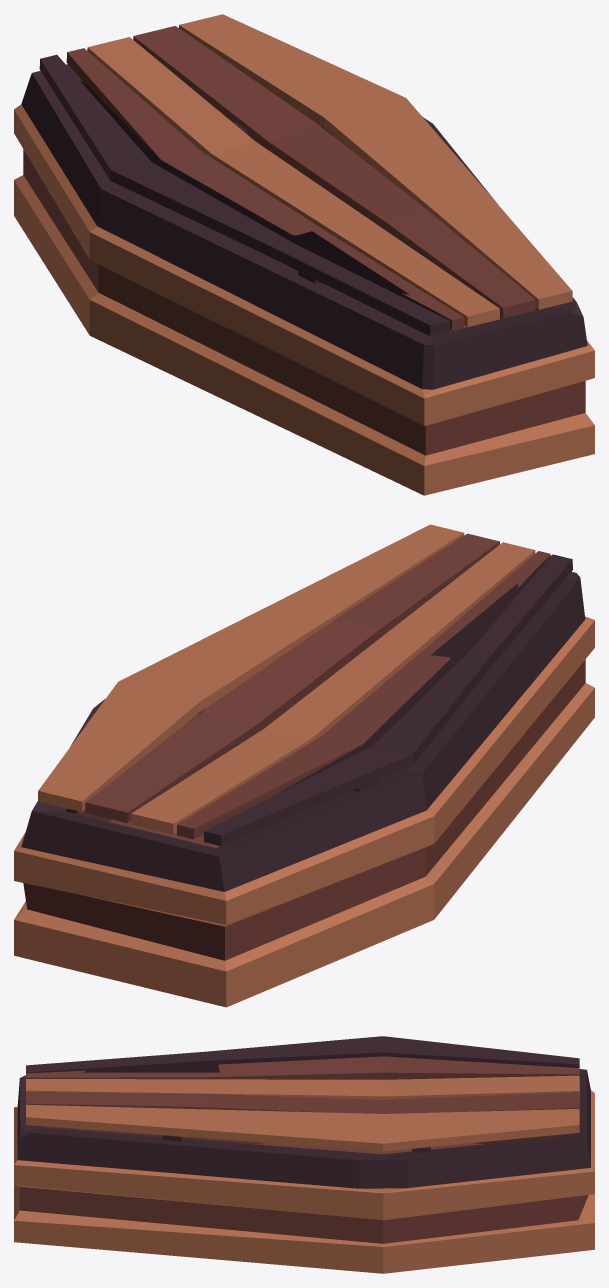
Rendered from Casket 03.fbx.
3 views of the same model, one above another, from view 1: azimuth 30°, elevation 25°; view 2: azimuth 150°, elevation 25°; view 3: azimuth 270°, elevation 25° (orthographic). The views are drawn at different scales.
Visible parts, largest first — view 1: Casket 03, Casket 03 Lid; view 2: Casket 03, Casket 03 Lid; view 3: Casket 03, Casket 03 Lid.
Part boxes in pixels (x1,y1,x2,y2): Casket 03: (14, 64, 594, 495); Casket 03 Lid: (39, 14, 572, 336); Casket 03: (14, 571, 594, 1007); Casket 03 Lid: (38, 524, 572, 845); Casket 03: (14, 1069, 594, 1273); Casket 03 Lid: (26, 1036, 579, 1153).
Bounding box in the file's own units: 136 × 60.9 × 267.
